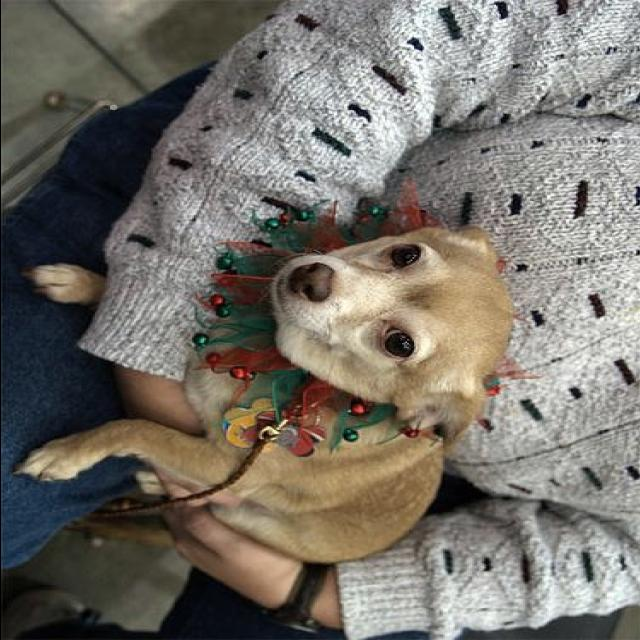chihuahua: (16, 226, 516, 564)
